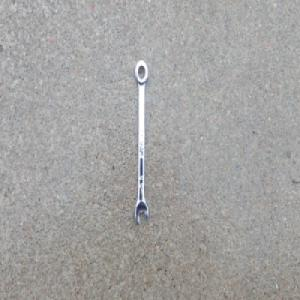Wrench: (134, 59, 149, 226)
